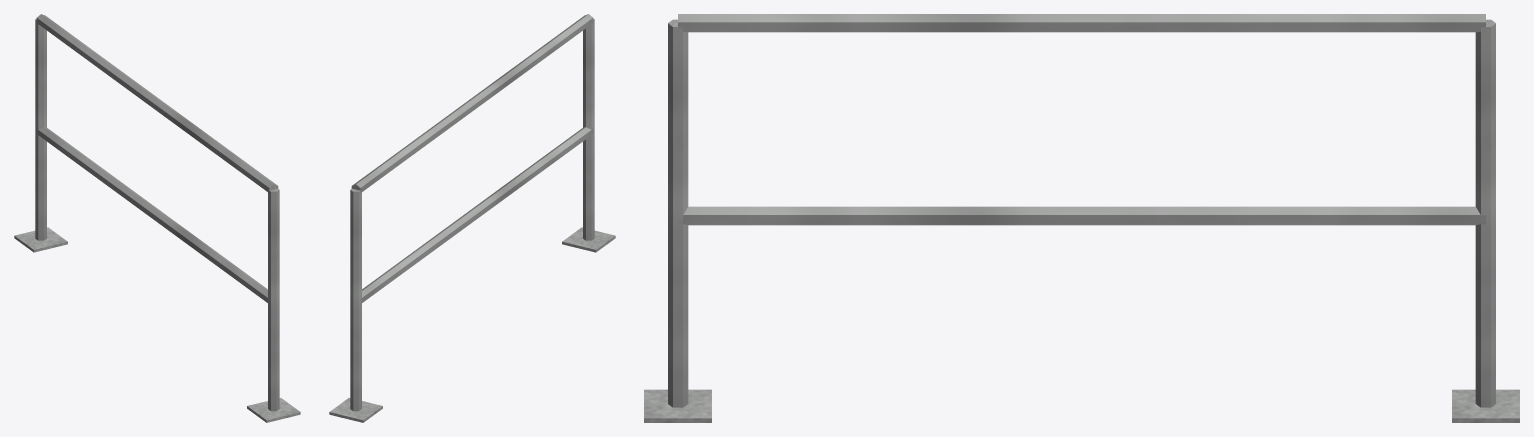
The model's file is SM_MoloItalia_RinghieraModulo_LOD1.fbx.
The picture shows the model from 3 angles, left to right: view 1: azimuth 30°, elevation 25°; view 2: azimuth 150°, elevation 25°; view 3: azimuth 270°, elevation 25°; orthographic projection. The views are drawn at different scales.
Parts seen in each view (by area): view 1: SM_MoloItalia_RinghieraModulo_LOD1; view 2: SM_MoloItalia_RinghieraModulo_LOD1; view 3: SM_MoloItalia_RinghieraModulo_LOD1.
Boxes of the visible parts, bbox=[...] form: SM_MoloItalia_RinghieraModulo_LOD1: bbox=[14, 14, 300, 422]; SM_MoloItalia_RinghieraModulo_LOD1: bbox=[329, 14, 615, 422]; SM_MoloItalia_RinghieraModulo_LOD1: bbox=[644, 14, 1519, 422].
Size of the model in its own units: 16 by 206 by 102.
1 material, 1 textured.
